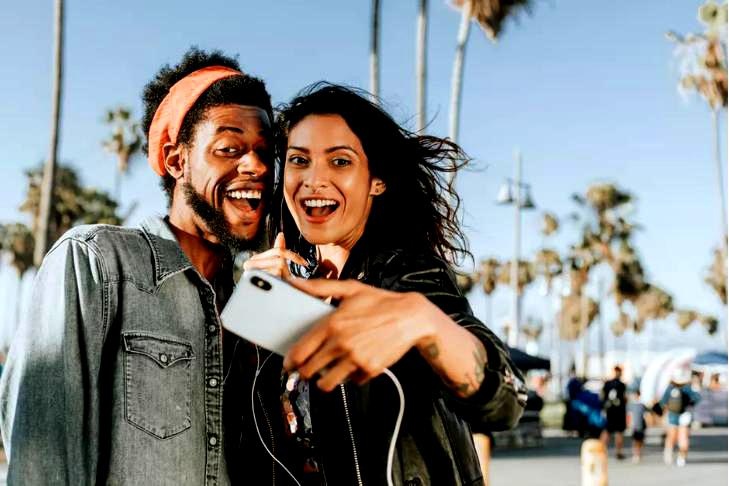face: (195, 105, 275, 249), (284, 115, 366, 242)
